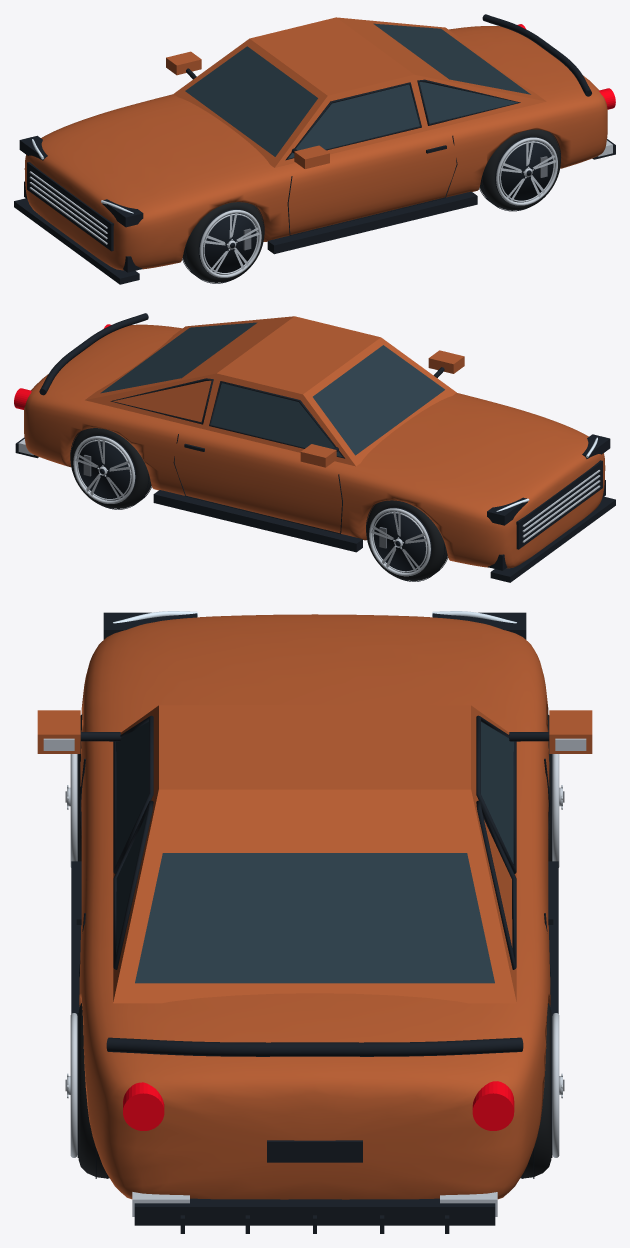
Rendered from car1.glb.
3 renders of one model, top to bottom at view 1: azimuth 30°, elevation 25°; view 2: azimuth 150°, elevation 25°; view 3: azimuth 270°, elevation 25°, orthographic. The views are drawn at different scales.
Visible parts, largest first — view 1: COUPE | Low sculpted body, COUPE | Long door window, COUPE | Wheel cap inset, COUPE | Swept coupe roof, COUPE | Road tire.002, COUPE | Machined rim lip.003, COUPE | Twin spoke alloy.002; view 2: COUPE | Low sculpted body, COUPE | Swept coupe roof, COUPE | Long door window, COUPE | Wheel cap inset, COUPE | Road tire.002, COUPE | Machined rim lip.003, COUPE | Twin spoke alloy.002; view 3: COUPE | Low sculpted body, COUPE | Swept coupe roof, COUPE | Long door window, COUPE | Wheel cap inset, COUPE | Machined rim lip.003, COUPE | Road tire.002, Cylinder.
Part boxes in pixels (x1=…): COUPE | Low sculpted body: x1=24, y1=26, x2=607, y2=270; COUPE | Long door window: x1=185, y1=23, x2=530, y2=158; COUPE | Wheel cap inset: x1=14, y1=14, x2=615, y2=284; COUPE | Swept coupe roof: x1=174, y1=17, x2=546, y2=167; COUPE | Road tire.002: x1=182, y1=129, x2=560, y2=282; COUPE | Machined rim lip.003: x1=29, y1=137, x2=612, y2=277; COUPE | Twin spoke alloy.002: x1=204, y1=140, x2=555, y2=273; COUPE | Low sculpted body: x1=24, y1=324, x2=605, y2=568; COUPE | Swept coupe roof: x1=85, y1=316, x2=456, y2=466; COUPE | Long door window: x1=100, y1=322, x2=444, y2=457; COUPE | Wheel cap inset: x1=15, y1=313, x2=615, y2=582; COUPE | Road tire.002: x1=70, y1=428, x2=447, y2=580; COUPE | Machined rim lip.003: x1=18, y1=436, x2=600, y2=576; COUPE | Twin spoke alloy.002: x1=75, y1=439, x2=426, y2=571; COUPE | Low sculpted body: x1=37, y1=614, x2=592, y2=1199; COUPE | Swept coupe roof: x1=113, y1=705, x2=516, y2=1003; COUPE | Long door window: x1=116, y1=721, x2=513, y2=983; COUPE | Wheel cap inset: x1=65, y1=612, x2=564, y2=1233; COUPE | Machined rim lip.003: x1=43, y1=738, x2=586, y2=1216; COUPE | Road tire.002: x1=78, y1=714, x2=551, y2=1178; Cylinder: x1=123, y1=1081, x2=514, y2=1130.
Bounding box in the file's own units: 4.86 × 1.34 × 2.31.
